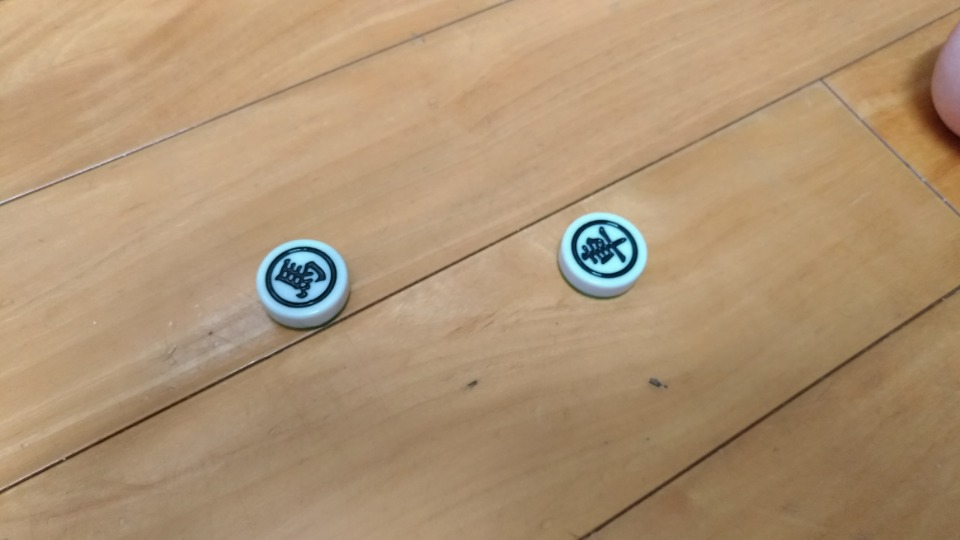b-knight: (238, 224, 360, 336)
b-rook: (555, 208, 666, 306)
